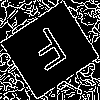F: (25, 25, 75, 80)
